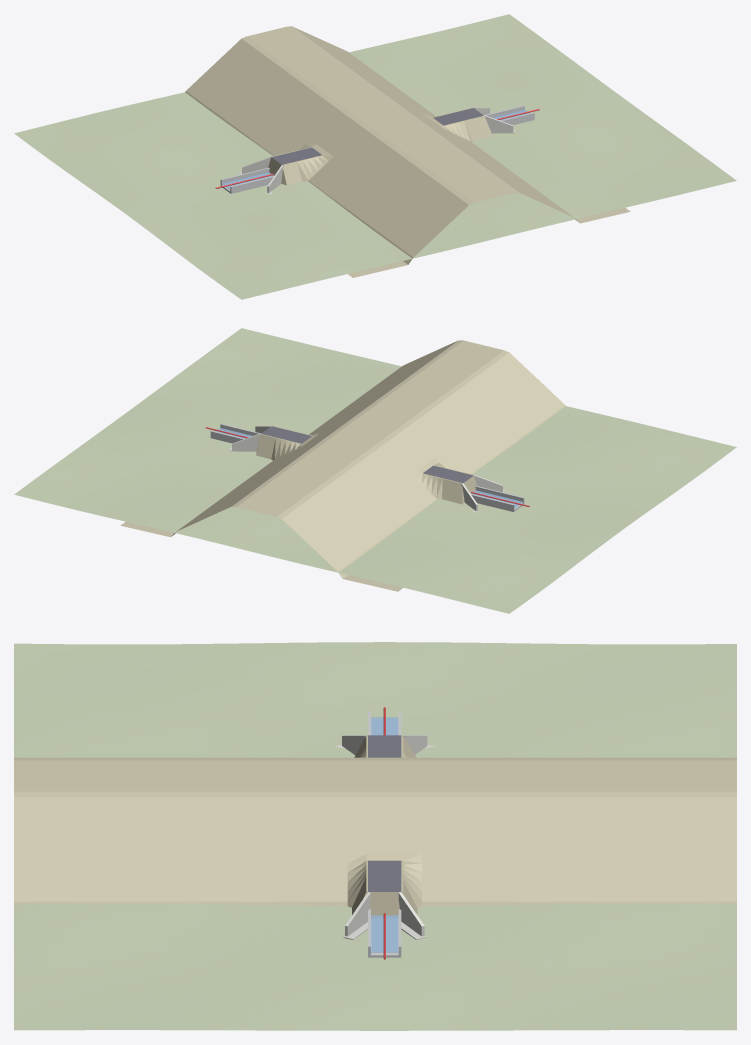
3 views of the same model, one above another, from view 1: azimuth 30°, elevation 25°; view 2: azimuth 150°, elevation 25°; view 3: azimuth 270°, elevation 25° (orthographic). The views are drawn at different scales.
Parts seen in each view (by area): view 1: 地形|現況地形 (参考), 土工|道路盛土 (参考, 天端幅9.5m H=5m), 防水|防水工 (頂版上面 塗膜, t表示), 取付水路|取付水路 (上流, コンクリート三面張り L=10m), 取付水路|取付水路 (下流, コンクリート三面張り L=10m); view 2: 地形|現況地形 (参考), 土工|道路盛土 (参考, 天端幅9.5m H=5m), 防水|防水工 (頂版上面 塗膜, t表示), 取付水路|取付水路 (上流, コンクリート三面張り L=10m), 取付水路|取付水路 (下流, コンクリート三面張り L=10m); view 3: 地形|現況地形 (参考), 土工|道路盛土 (参考, 天端幅9.5m H=5m), 防水|防水工 (頂版上面 塗膜, t表示), 地形|水面 (参考), 取付水路|取付水路 (下流, コンクリート三面張り L=10m).
Part boxes in pixels (bbox=[...]): 地形|現況地形 (参考): bbox=[14, 14, 736, 299]; 土工|道路盛土 (参考, 天端幅9.5m H=5m): bbox=[185, 26, 630, 277]; 防水|防水工 (頂版上面 塗膜, t表示): bbox=[271, 108, 483, 164]; 取付水路|取付水路 (上流, コンクリート三面張り L=10m): bbox=[220, 167, 273, 193]; 取付水路|取付水路 (下流, コンクリート三面張り L=10m): bbox=[485, 105, 534, 125]; 地形|現況地形 (参考): bbox=[14, 328, 736, 613]; 土工|道路盛土 (参考, 天端幅9.5m H=5m): bbox=[120, 340, 565, 591]; 防水|防水工 (頂版上面 塗膜, t表示): bbox=[261, 426, 473, 482]; 取付水路|取付水路 (上流, コンクリート三面張り L=10m): bbox=[471, 486, 524, 511]; 取付水路|取付水路 (下流, コンクリート三面張り L=10m): bbox=[210, 423, 259, 443]; 地形|現況地形 (参考): bbox=[14, 642, 736, 1030]; 土工|道路盛土 (参考, 天端幅9.5m H=5m): bbox=[14, 735, 736, 921]; 防水|防水工 (頂版上面 塗膜, t表示): bbox=[368, 735, 401, 891]; 地形|水面 (参考): bbox=[371, 717, 398, 952]; 取付水路|取付水路 (下流, コンクリート三面張り L=10m): bbox=[368, 909, 401, 957].
Bounding box in the file's own units: 98 × 8.91 × 78.
